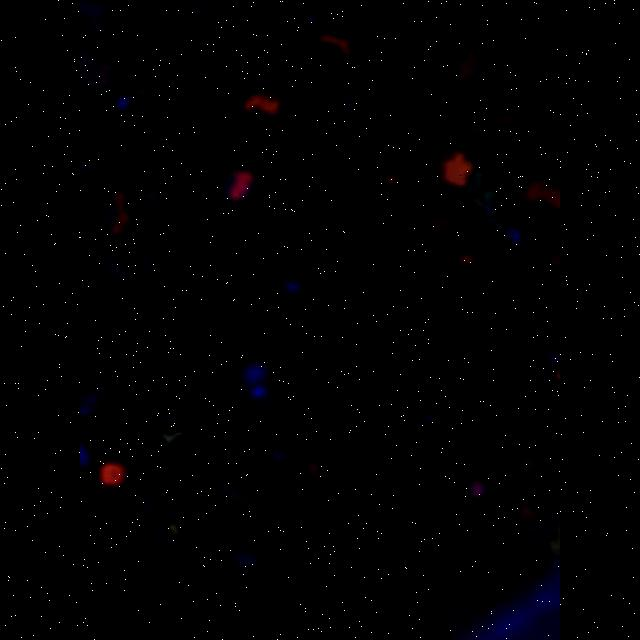Fragment: (242, 92, 280, 116)
